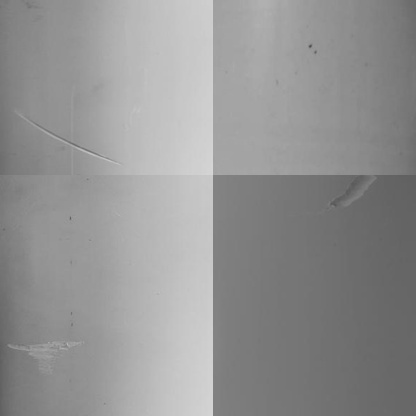sunshang: (12, 104, 125, 171), (10, 331, 82, 379), (328, 168, 378, 213)
